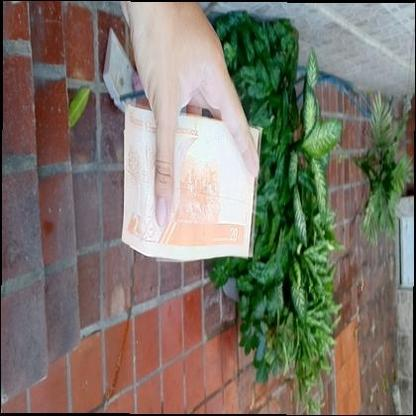twenty-back-vef: (120, 104, 260, 262)
